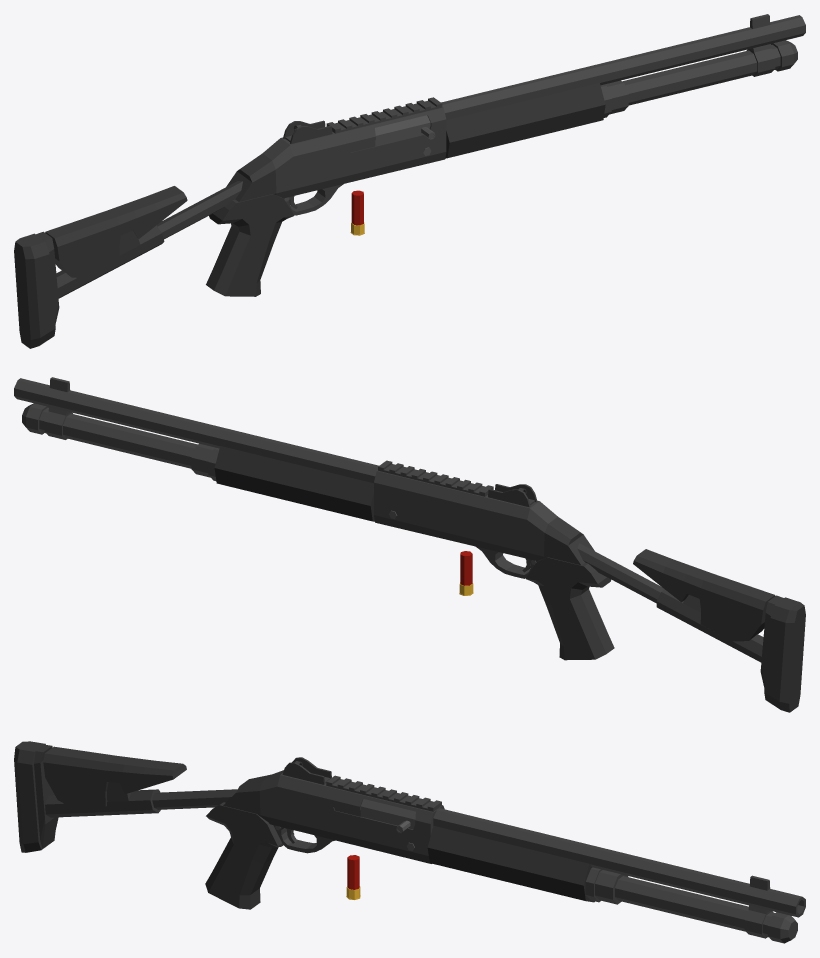
Rendered from Benelli M4.fbx.
3 renders of one model, top to bottom at view 1: azimuth 30°, elevation 25°; view 2: azimuth 150°, elevation 25°; view 3: azimuth 330°, elevation 25°, orthographic.
Visible parts, largest first — view 1: Benelli M4; view 2: Benelli M4, Bullet; view 3: Benelli M4, Bullet.
Part boxes in pixels (<box>): Benelli M4: <box>14,14,805,348</box>; Benelli M4: <box>14,377,805,712</box>; Bullet: <box>459,551,473,595</box>; Benelli M4: <box>14,741,805,943</box>; Bullet: <box>346,855,360,899</box>.
Size of the model in its own units: 879 by 168 by 52.36.
Materials: 1 (1 with a texture image).
